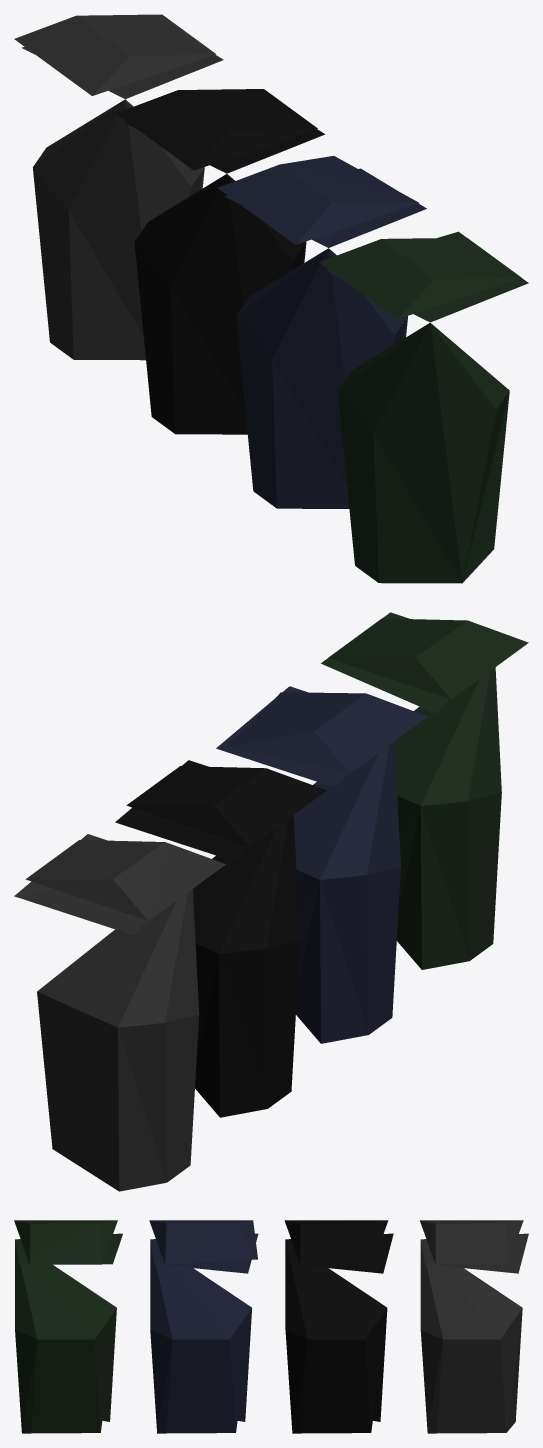
The model's file is wheelie-bins.lod2.glb.
The picture shows the model from 3 angles, top to bottom: view 1: azimuth 30°, elevation 25°; view 2: azimuth 150°, elevation 25°; view 3: azimuth 270°, elevation 25°; orthographic projection. The views are drawn at different scales.
Parts seen in each view (by area): view 1: TrashCan_Grey_TrashCan(Grey)_0; view 2: TrashCan_Grey_TrashCan(Grey)_0; view 3: TrashCan_Grey_TrashCan(Grey)_0.
Part boxes in pixels (bbox=[...]): TrashCan_Grey_TrashCan(Grey)_0: bbox=[14, 14, 528, 583]; TrashCan_Grey_TrashCan(Grey)_0: bbox=[14, 612, 528, 1191]; TrashCan_Grey_TrashCan(Grey)_0: bbox=[14, 1220, 528, 1433].
Bounding box in the file's own units: 0.6971 × 1.46 × 3.35.
